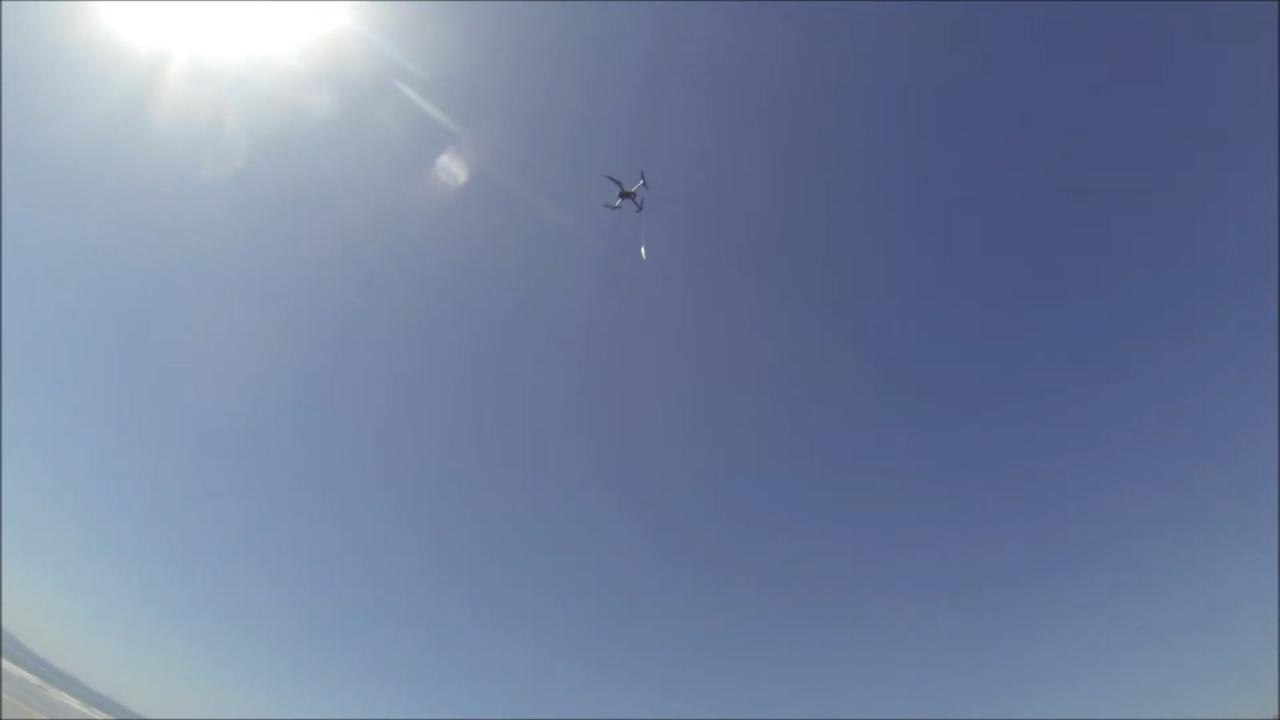Drone: (594, 163, 656, 222)
